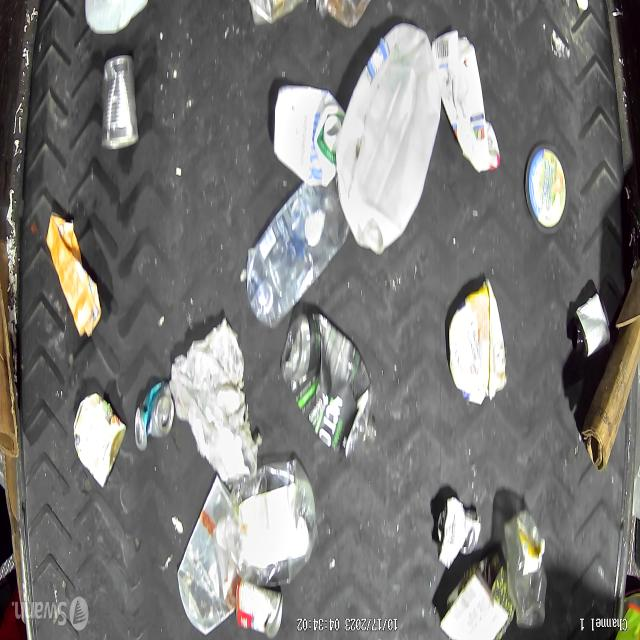can: (73, 393, 126, 487), (100, 54, 138, 150), (134, 381, 174, 453), (235, 580, 284, 638)
milk_jug: (333, 27, 445, 252), (83, 1, 155, 35)
plastic_bottle: (244, 183, 349, 329), (220, 458, 316, 585)
